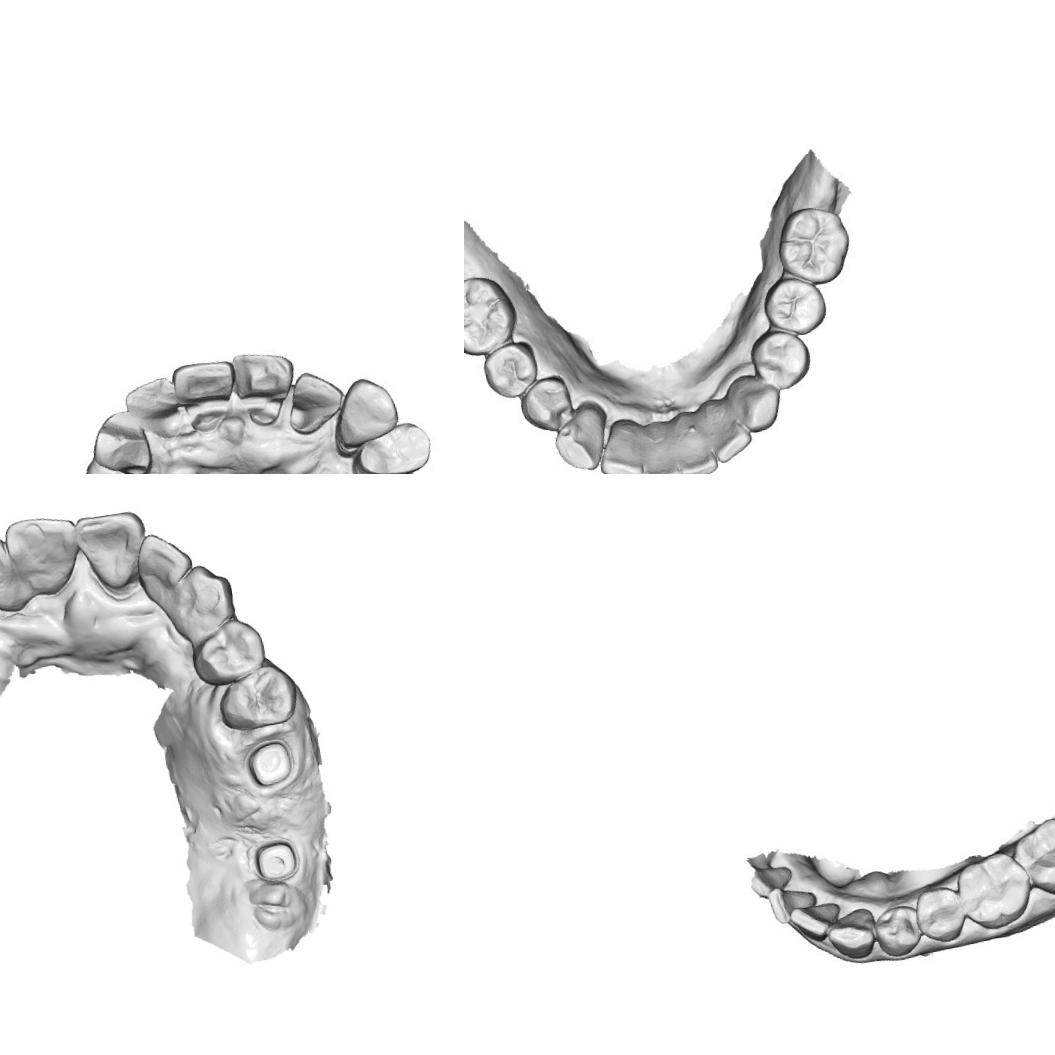abutment: (250, 835, 303, 887), (244, 739, 296, 790)
canine: (165, 558, 240, 644), (327, 371, 404, 454), (84, 401, 159, 474), (547, 403, 615, 474), (822, 905, 882, 968), (727, 372, 784, 434)
incisor: (0, 510, 84, 604), (70, 504, 152, 598), (228, 345, 297, 427), (173, 358, 246, 434), (132, 526, 196, 607), (284, 366, 347, 444), (126, 374, 186, 444), (705, 398, 754, 462), (596, 411, 644, 474), (764, 882, 822, 926), (672, 418, 713, 474), (636, 433, 681, 474), (0, 534, 20, 621), (790, 904, 838, 940)
molar: (769, 202, 856, 288), (949, 848, 1032, 937), (464, 273, 520, 361), (1010, 812, 1055, 900)
premolar: (212, 664, 300, 736), (187, 613, 271, 687), (346, 420, 438, 474), (762, 270, 832, 340), (905, 881, 967, 947), (752, 328, 812, 392), (481, 339, 540, 402), (871, 900, 926, 961), (524, 373, 572, 430)
